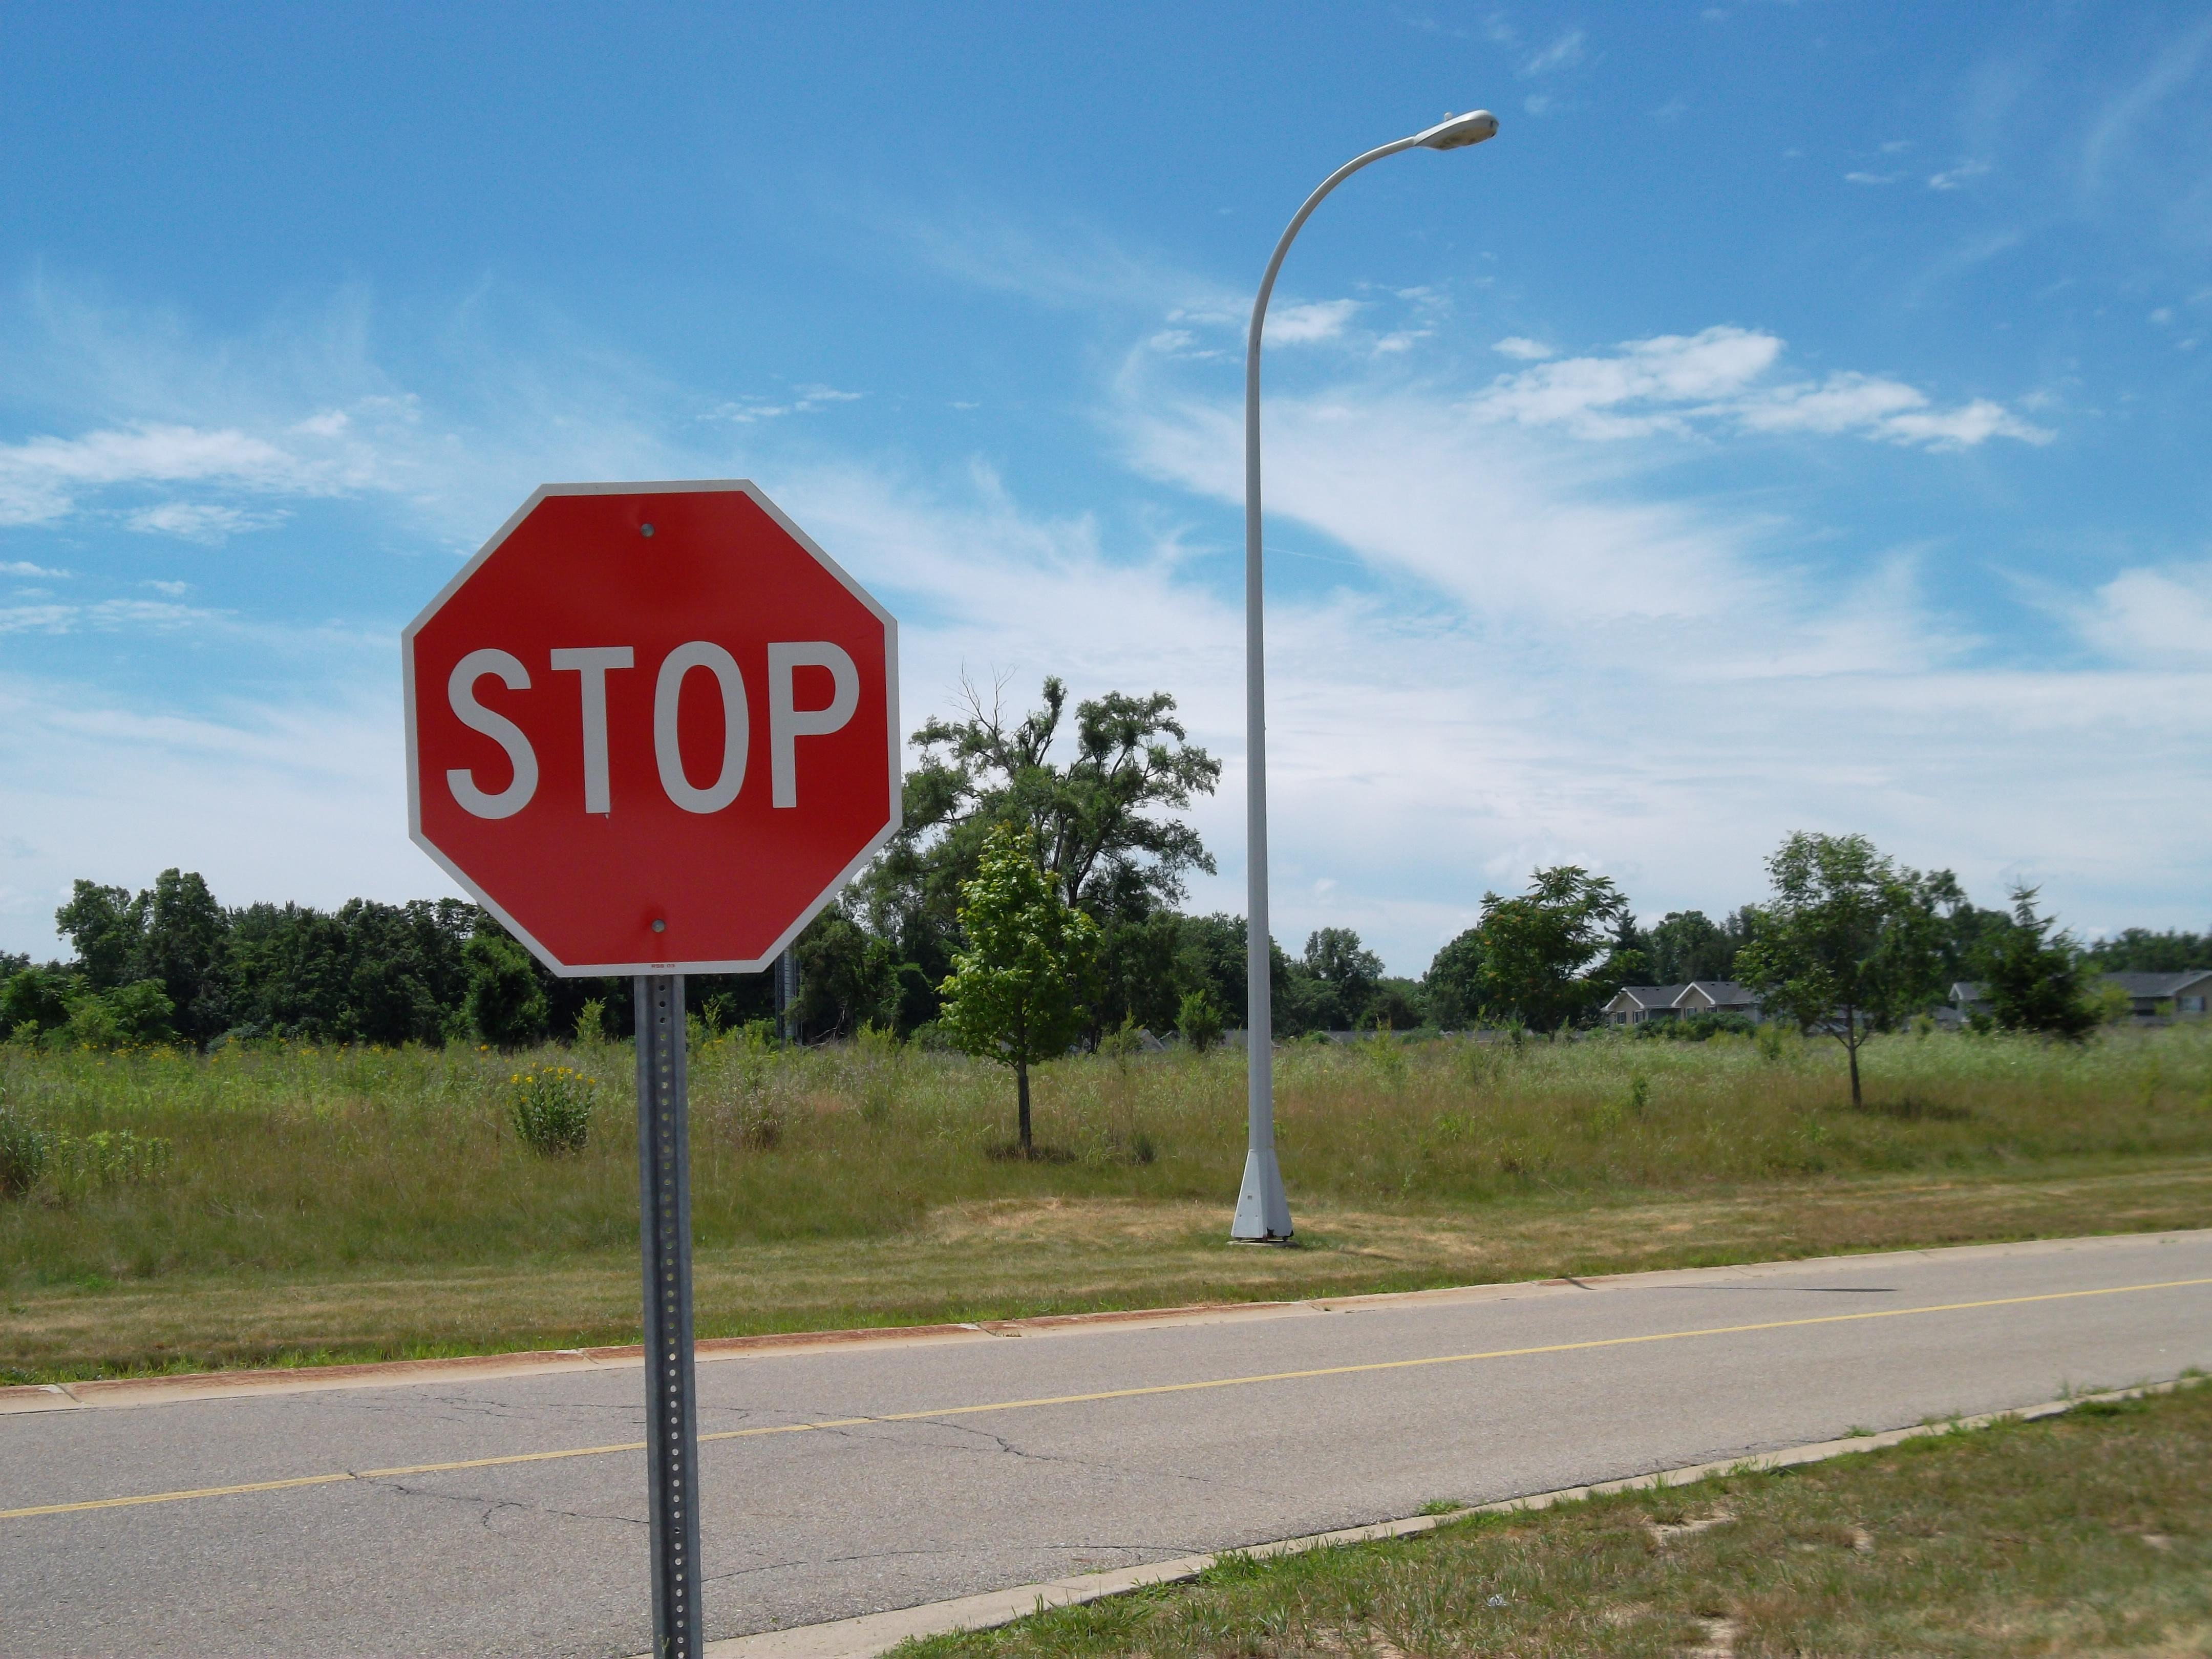stop: (388, 465, 923, 1002)
